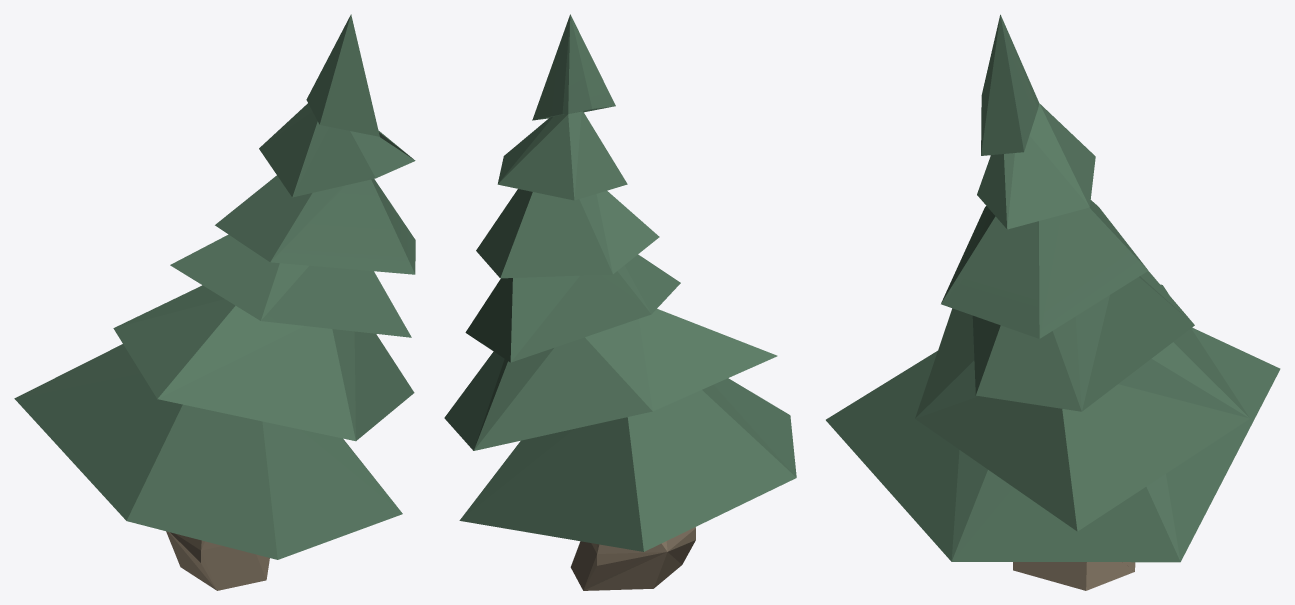
File: Vegetation_Tree_Pine_03.fbx
The picture shows the model from 3 angles, left to right: view 1: azimuth 30°, elevation 25°; view 2: azimuth 150°, elevation 25°; view 3: azimuth 270°, elevation 25°; orthographic projection. The views are drawn at different scales.
Parts seen in each view (by area): view 1: Vegetation_Tree_Pine_03; view 2: Vegetation_Tree_Pine_03; view 3: Vegetation_Tree_Pine_03.
Part boxes in pixels (left/top/right/bottom): Vegetation_Tree_Pine_03: left=14, top=14, right=415, bottom=590; Vegetation_Tree_Pine_03: left=444, top=14, right=796, bottom=590; Vegetation_Tree_Pine_03: left=826, top=14, right=1280, bottom=590.
Bounding box in the file's own units: 3252 × 5161 × 3561.
